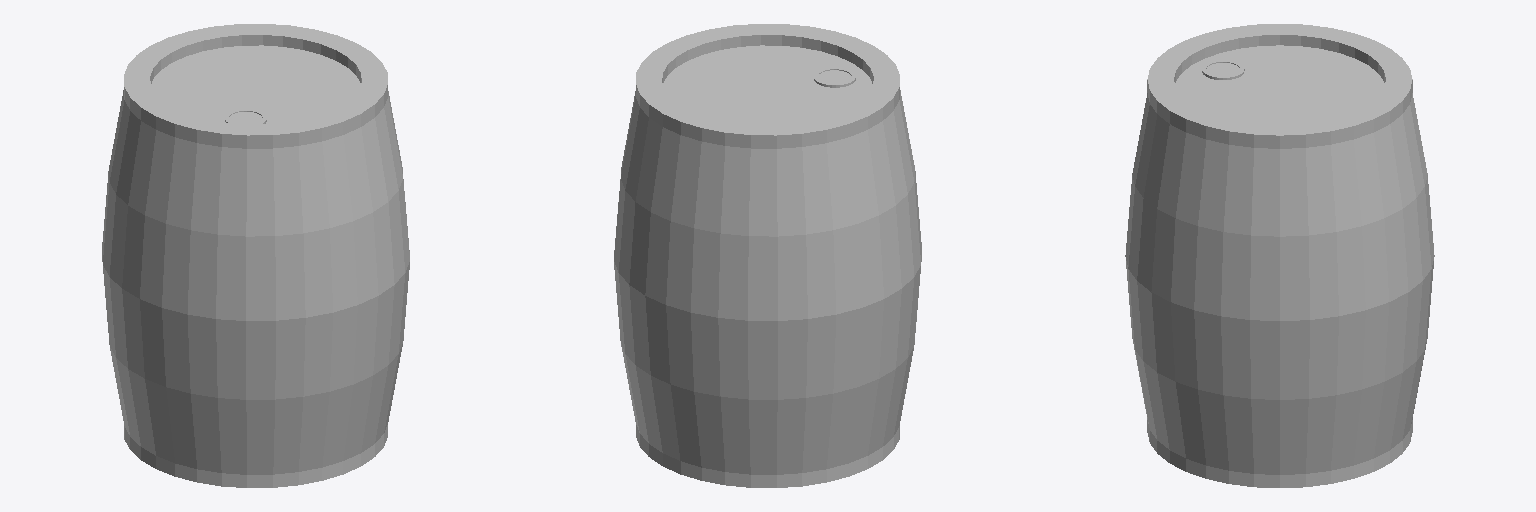
Rendered from woodbarrel.obj.
3 renders of one model, left to right at view 1: azimuth 30°, elevation 25°; view 2: azimuth 150°, elevation 25°; view 3: azimuth 270°, elevation 25°, orthographic.
Visible parts, largest first — view 1: Cylinder; view 2: Cylinder; view 3: Cylinder.
Boxes of the visible parts, x1,y1,x2,y2 form: Cylinder: [102, 24, 409, 487]; Cylinder: [614, 24, 921, 487]; Cylinder: [1125, 24, 1434, 487].
Bounding box in the file's own units: 0.7946 × 1 × 0.7946.